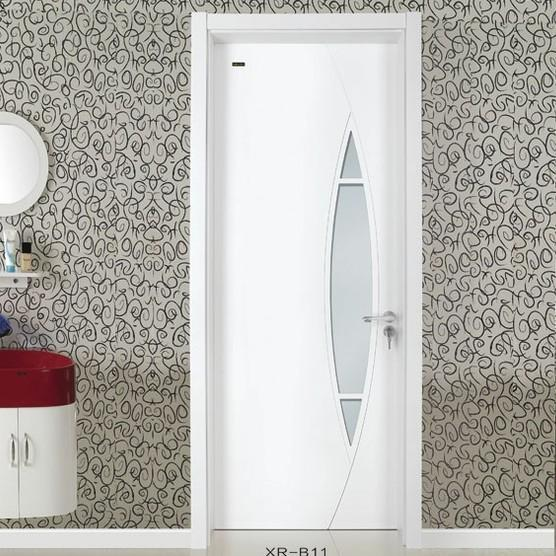door: (215, 37, 401, 525)
